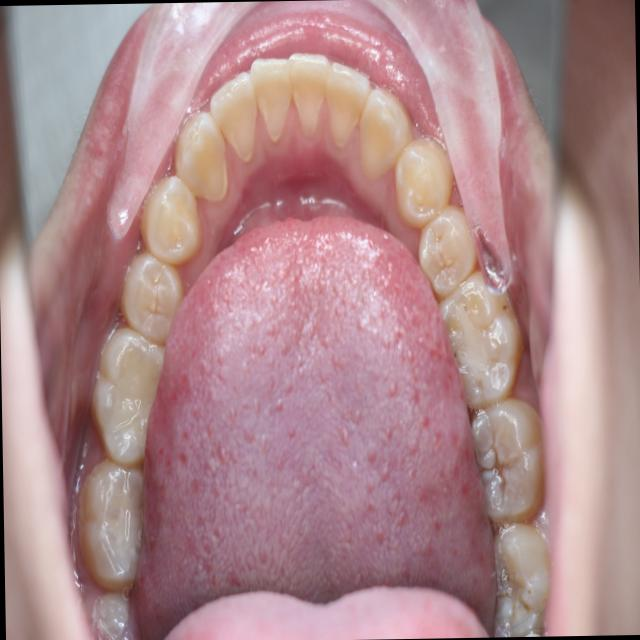tooth: (83, 316, 184, 491), (428, 262, 534, 414), (68, 447, 158, 604), (455, 388, 548, 532), (409, 206, 489, 315), (112, 239, 189, 352), (485, 515, 556, 637), (391, 133, 466, 246), (206, 61, 273, 185), (172, 106, 242, 216), (137, 173, 211, 275), (281, 28, 339, 157), (318, 45, 381, 159), (351, 76, 415, 186), (242, 39, 298, 160), (77, 571, 137, 640)
